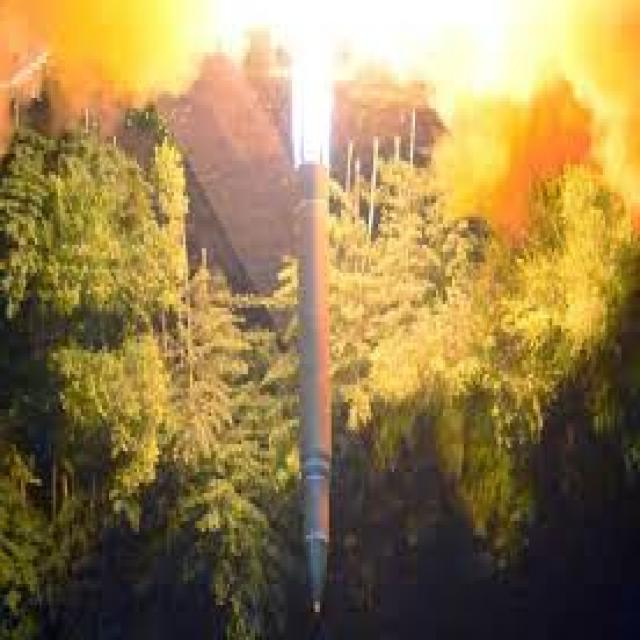Missile: (290, 159, 339, 640)
